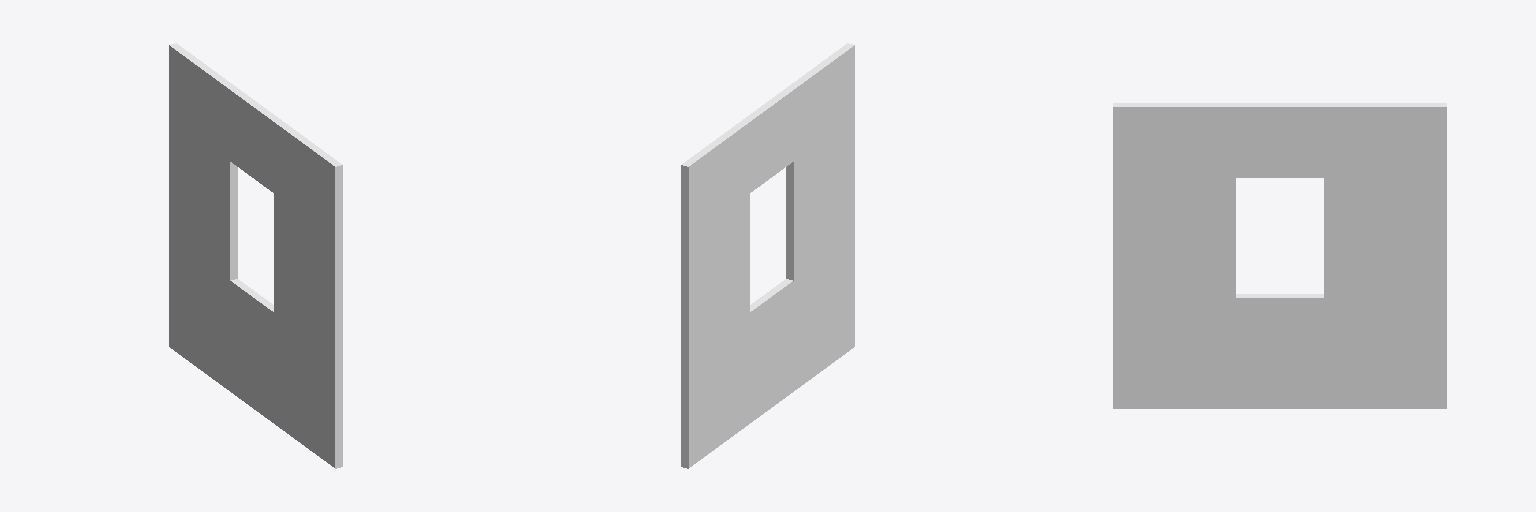
File: Livingroom-5.obj
The picture shows the model from 3 angles: view 1: azimuth 30°, elevation 25°; view 2: azimuth 150°, elevation 25°; view 3: azimuth 270°, elevation 25°; orthographic projection.
Visible parts, largest first — view 1: object 1; view 2: object 1; view 3: object 1.
Boxes of the visible parts, <box> form: object 1: <box>169,43,342,468</box>; object 1: <box>681,43,854,468</box>; object 1: <box>1113,103,1446,408</box>.
Size of the model in its own units: 0.1 by 3.8 by 3.8.